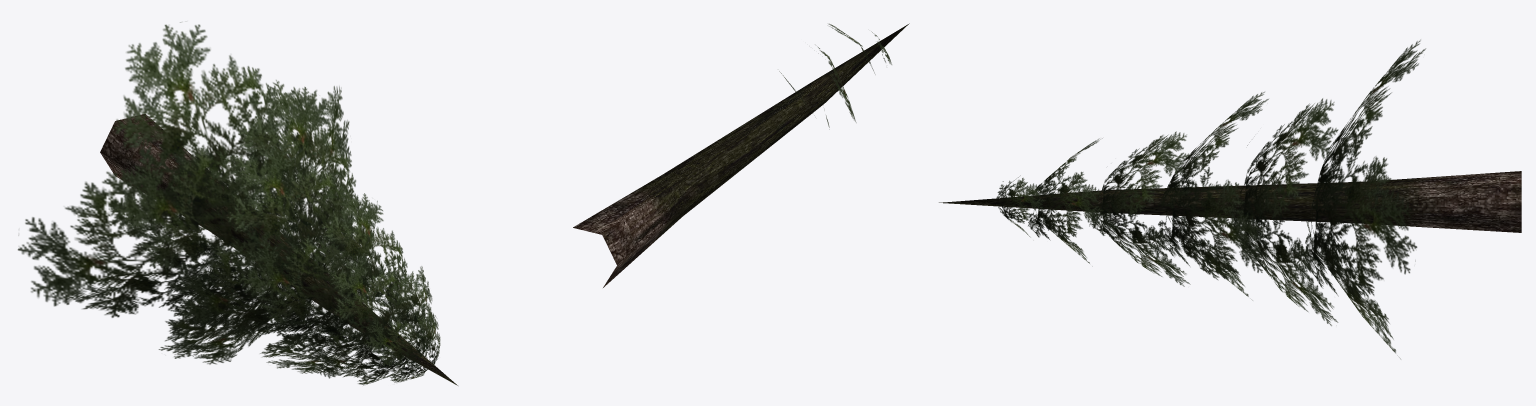
The picture shows the model from 3 angles, left to right: view 1: azimuth 30°, elevation 25°; view 2: azimuth 150°, elevation 25°; view 3: azimuth 270°, elevation 25°; orthographic projection. The views are drawn at different scales.
Parts seen in each view (by area): view 1: model_Object08; view 2: model_Object08; view 3: model_Object08.
Boxes of the visible parts, x1,y1,x2,y2 form: model_Object08: (18,22,457,385); model_Object08: (573,23,909,287); model_Object08: (939,40,1521,358).
Size of the model in its own units: 3.92 by 3.82 by 6.71.
2 materials, 2 textured.
